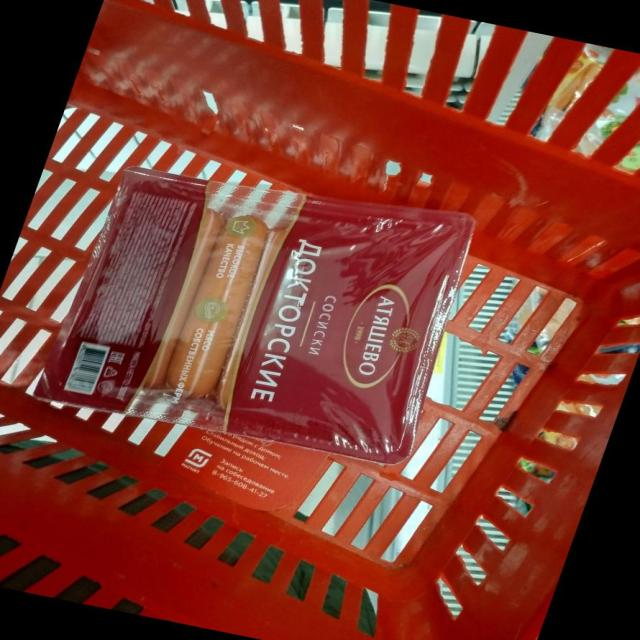Sausages: (35, 166, 475, 462)
